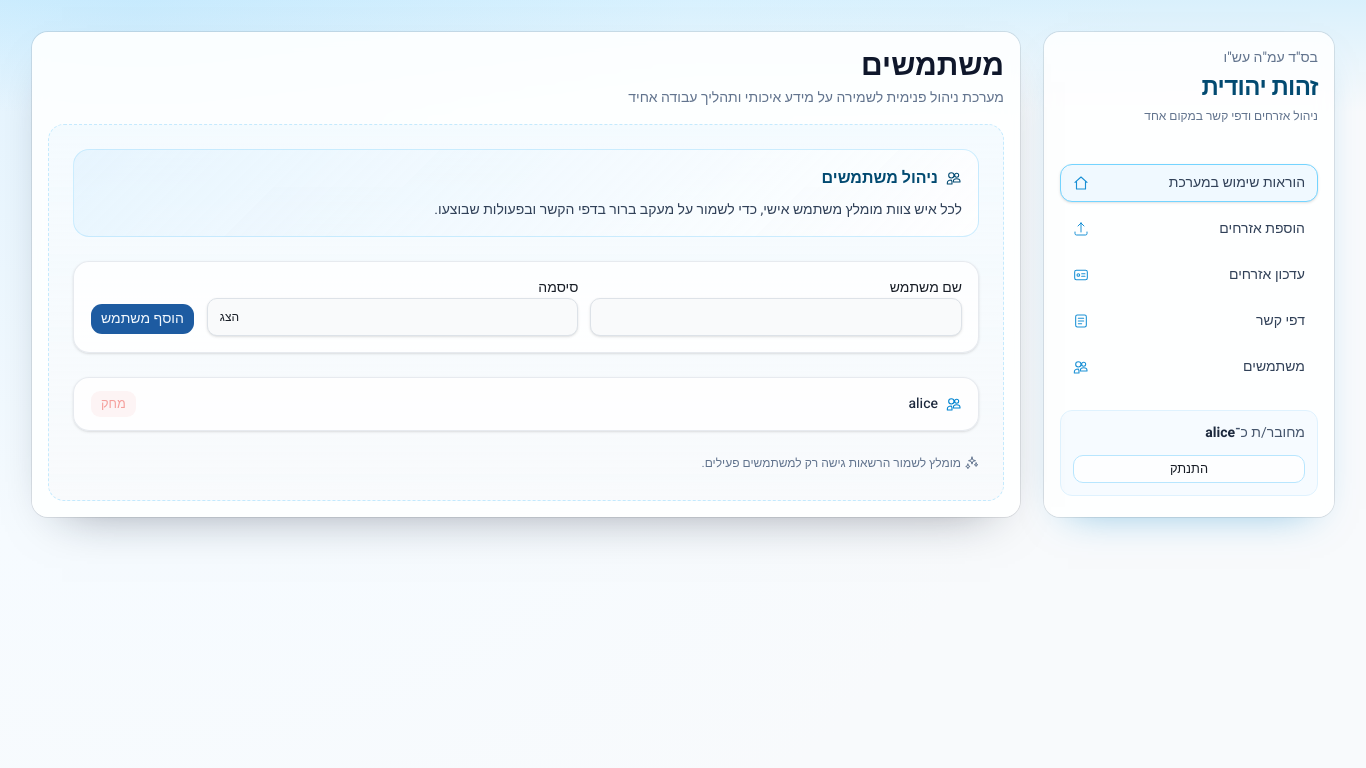
Users page › creates a new user
The width and height of the screenshot is (1366, 768).
Check: the text "alice" is shown, box x1=908 y1=394 x2=962 y2=414
Type "bob" into the field labelled "שם משתמש" at (776, 317), box x1=590 y1=298 x2=962 y2=336
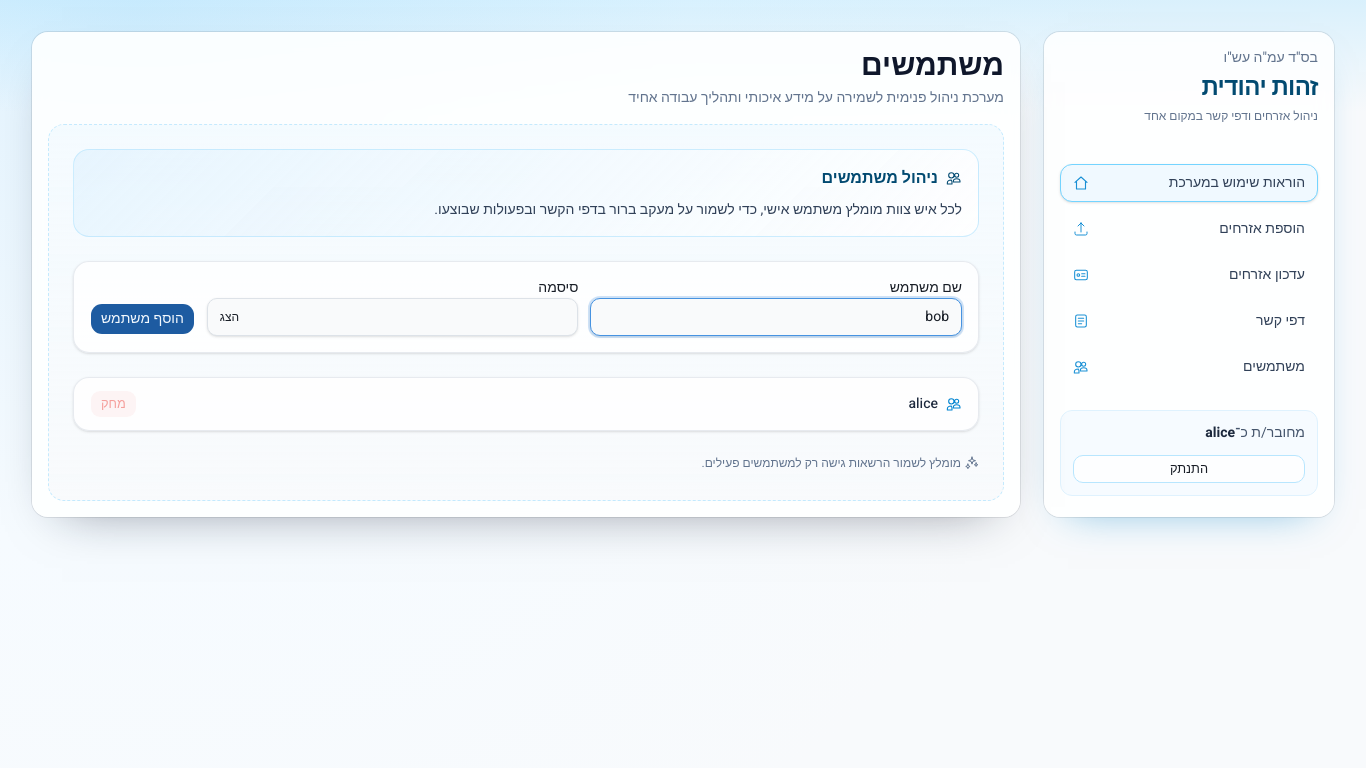
Type "secret-123" into the password field labelled "סיסמה" at (393, 317), box x1=207 y1=298 x2=578 y2=336
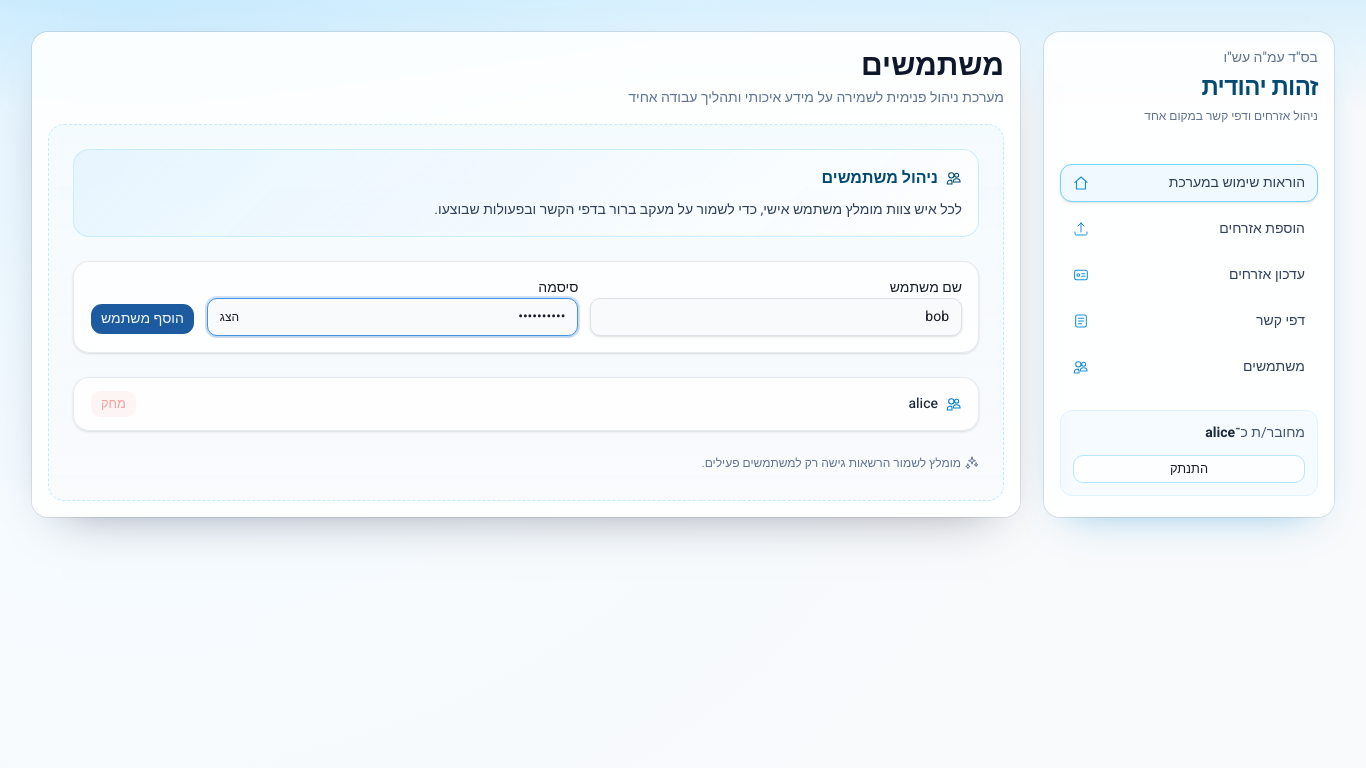
Click the button "הוסף משתמש" at (142, 319), box x1=90 y1=303 x2=195 y2=335
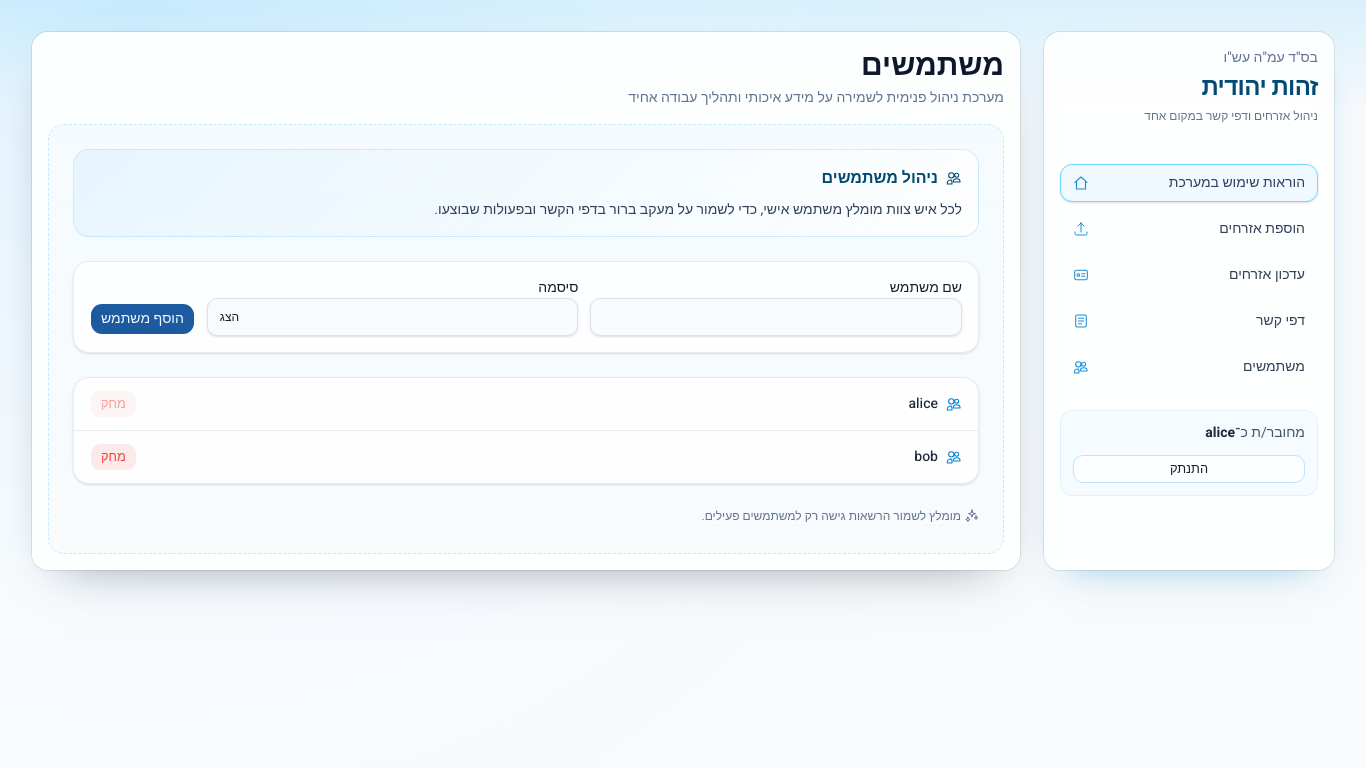
Check: the text "bob" is shown, box x1=914 y1=447 x2=962 y2=467
